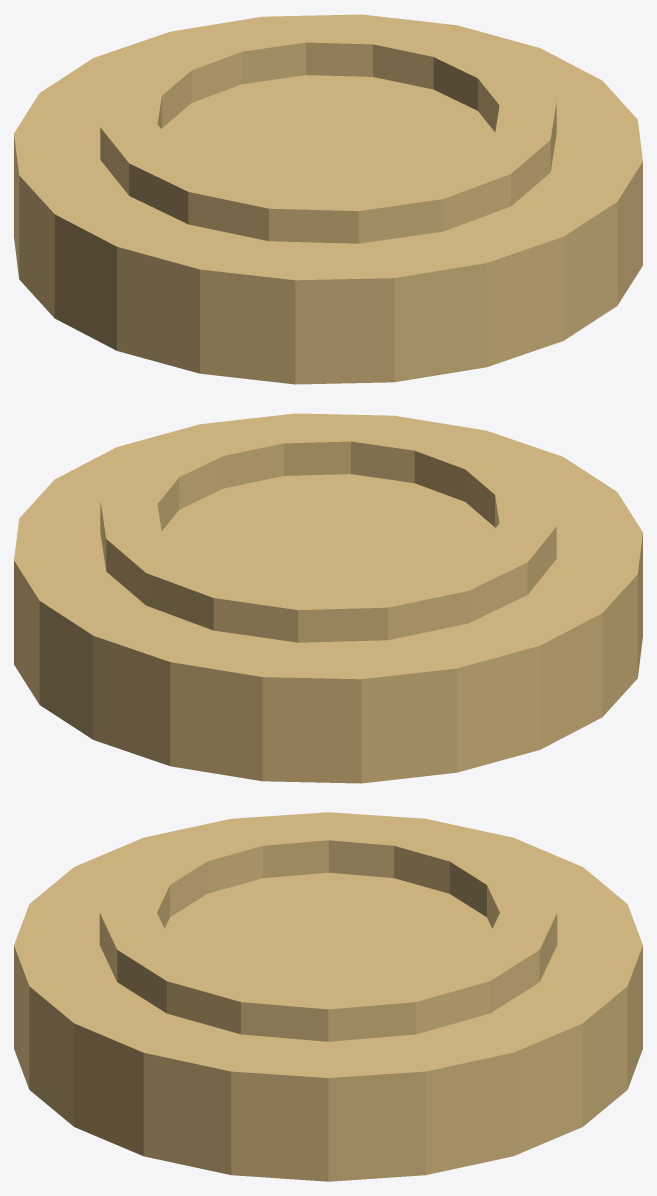
File: Prop_Button.fbx
3 renders of one model, top to bottom at view 1: azimuth 30°, elevation 25°; view 2: azimuth 150°, elevation 25°; view 3: azimuth 270°, elevation 25°, orthographic.
Visible parts, largest first — view 1: Button_Brass; view 2: Button_Brass; view 3: Button_Brass.
Boxes of the visible parts, <box> form: Button_Brass: <box>14,14,642,384</box>; Button_Brass: <box>14,413,642,783</box>; Button_Brass: <box>14,812,642,1181</box>.
Bounding box in the file's own units: 0.022 × 0.00525 × 0.022.
